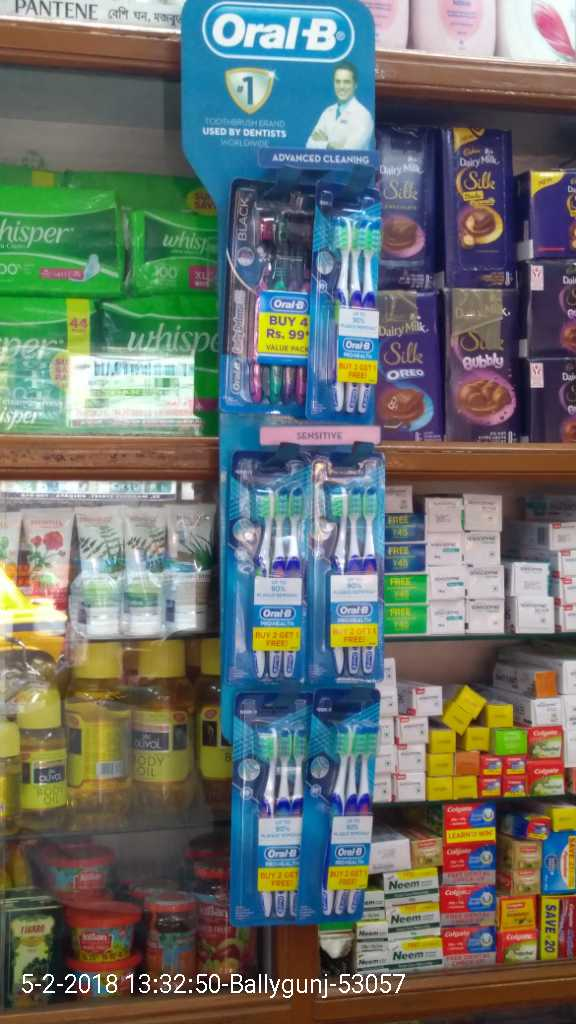oralb: (3, 185, 121, 294)
